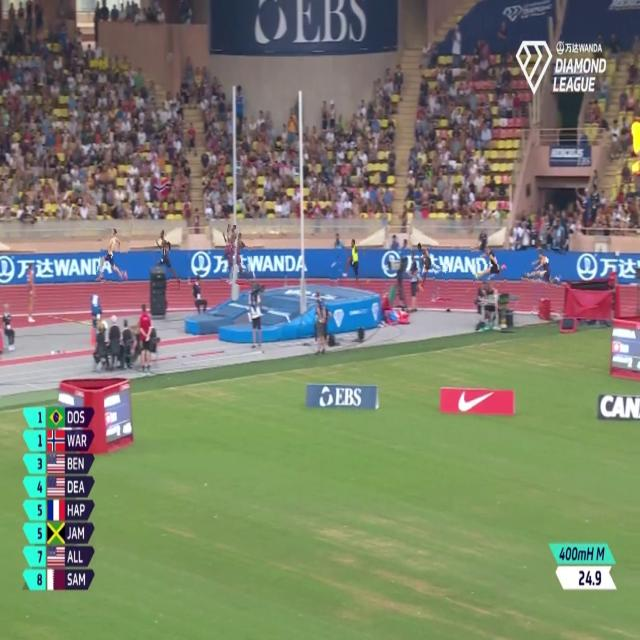athlete: (97, 221, 131, 285), (522, 247, 565, 289), (155, 228, 181, 290), (471, 242, 506, 285), (411, 234, 434, 292), (342, 232, 362, 290), (234, 234, 253, 285), (222, 225, 237, 283)
hurdle: (430, 265, 449, 304), (532, 278, 549, 317), (330, 256, 344, 289)
